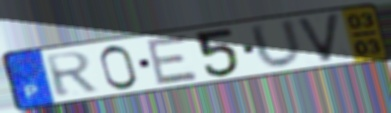0: (97, 43, 140, 92)
5: (191, 25, 243, 79)
E: (145, 33, 201, 87)
R: (42, 50, 101, 99)
U: (246, 17, 307, 71)
V: (293, 11, 343, 65)
